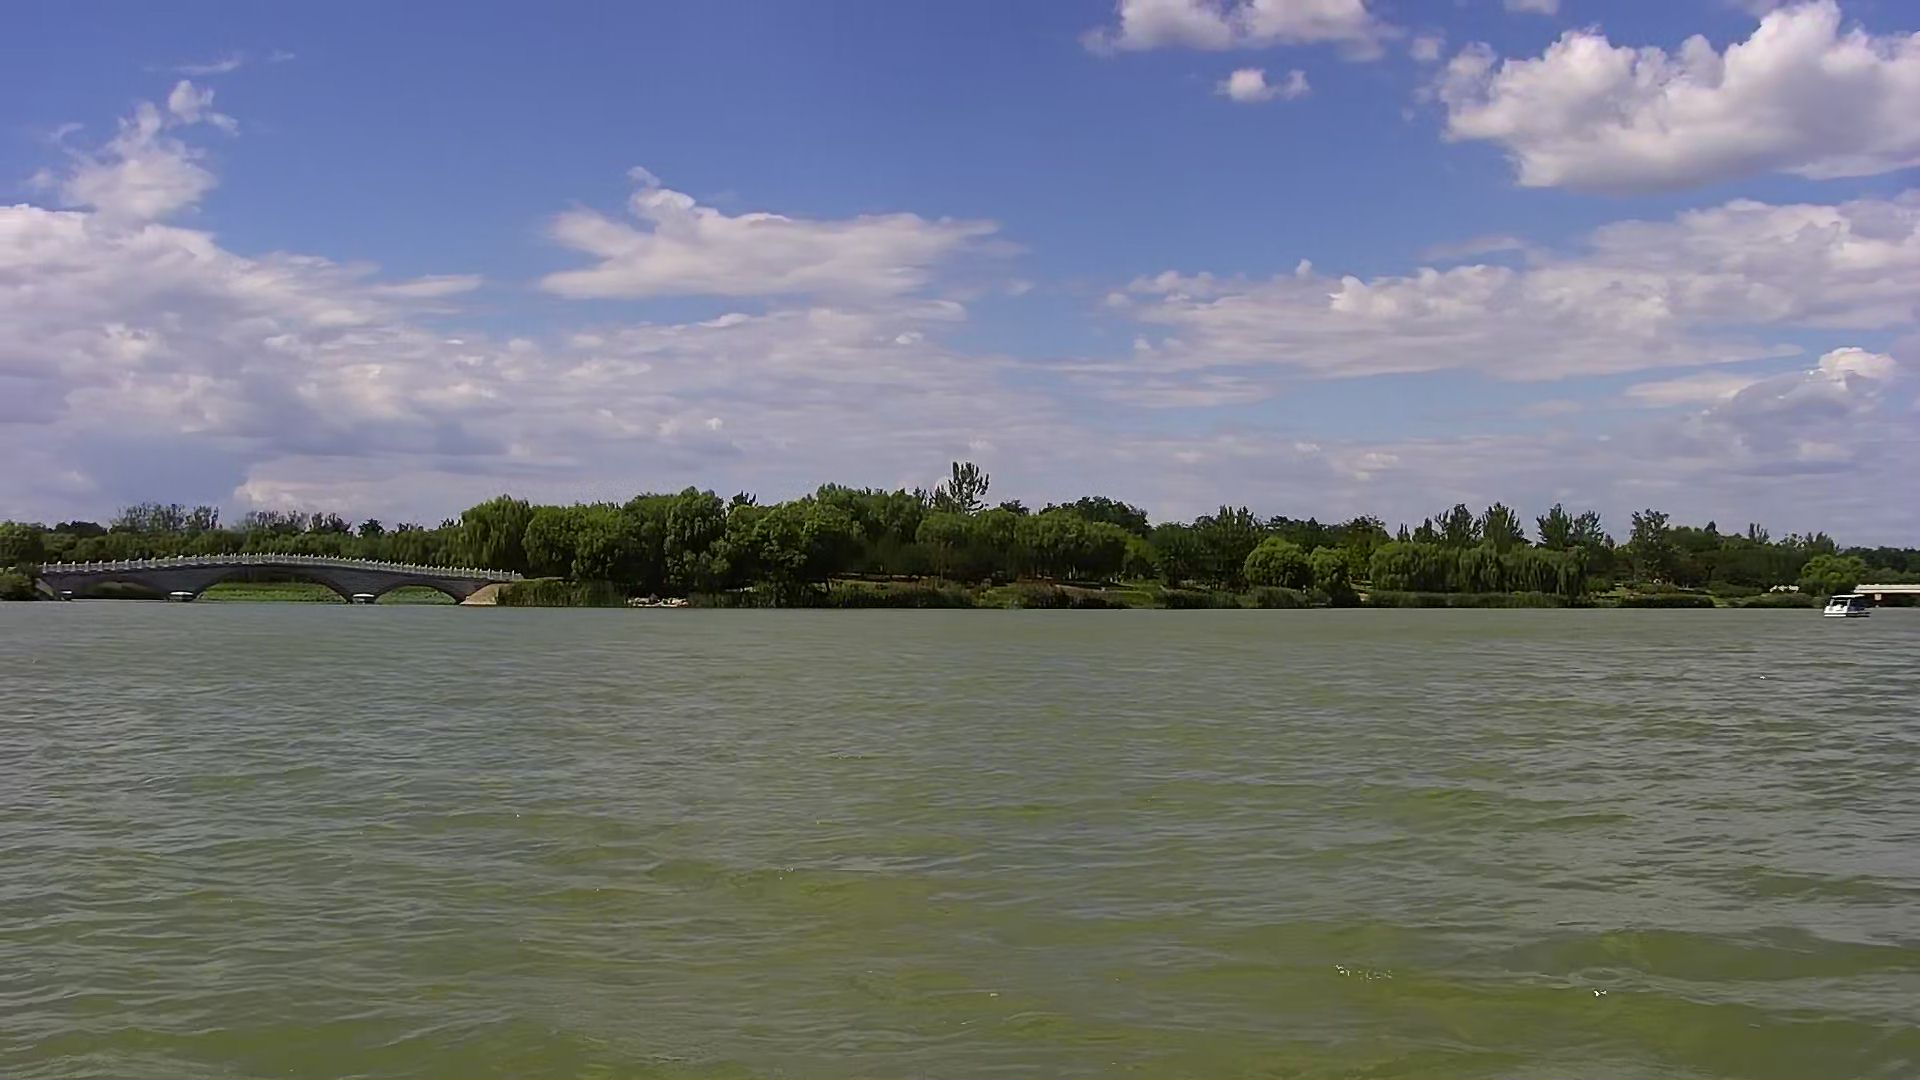boat: (1811, 580, 1874, 632)
bridge: (32, 547, 527, 615)
